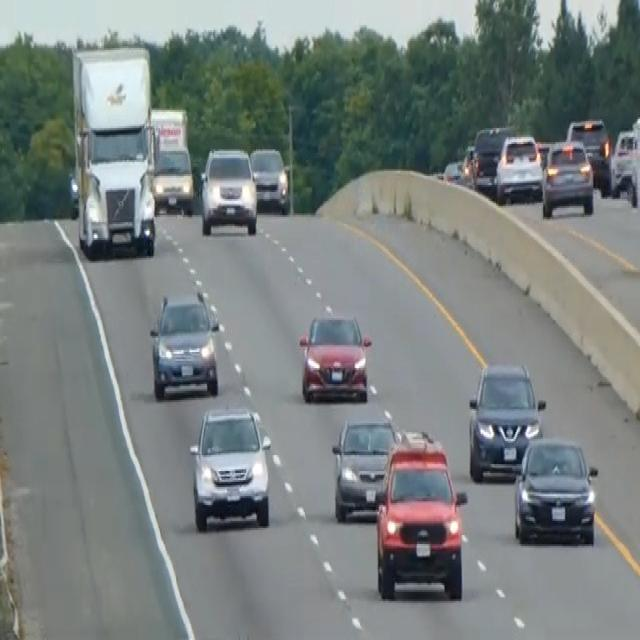car: (374, 435, 467, 601), (188, 404, 272, 532), (467, 359, 545, 482), (513, 434, 598, 546), (148, 288, 220, 400), (330, 411, 403, 521), (298, 310, 372, 404), (198, 144, 257, 235), (541, 137, 594, 217), (495, 132, 543, 202), (565, 115, 611, 188), (151, 142, 195, 215), (470, 122, 513, 194), (249, 144, 289, 213), (609, 126, 639, 196), (441, 156, 465, 185)
lorry: (69, 42, 157, 258)
